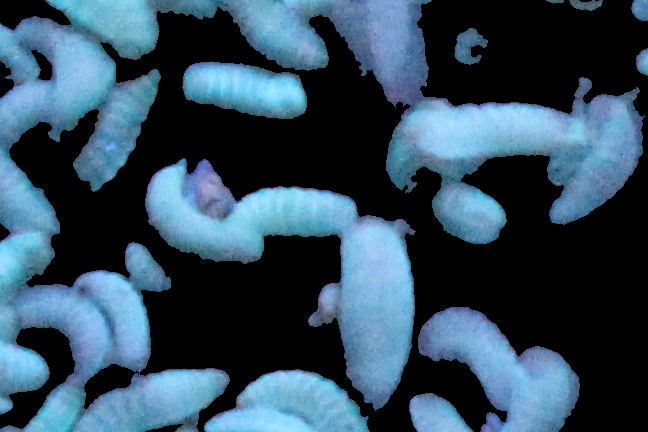larvae: (407, 83, 581, 172), (336, 214, 415, 407), (138, 149, 268, 266), (555, 92, 643, 232), (224, 166, 357, 249), (23, 20, 116, 128), (79, 70, 155, 200), (76, 261, 155, 376), (5, 283, 118, 362), (181, 54, 305, 122), (434, 301, 520, 397), (239, 369, 376, 429), (83, 369, 235, 422), (225, 1, 337, 68), (1, 142, 74, 234), (44, 1, 158, 58), (517, 336, 582, 432), (11, 375, 95, 432), (203, 403, 307, 432)
